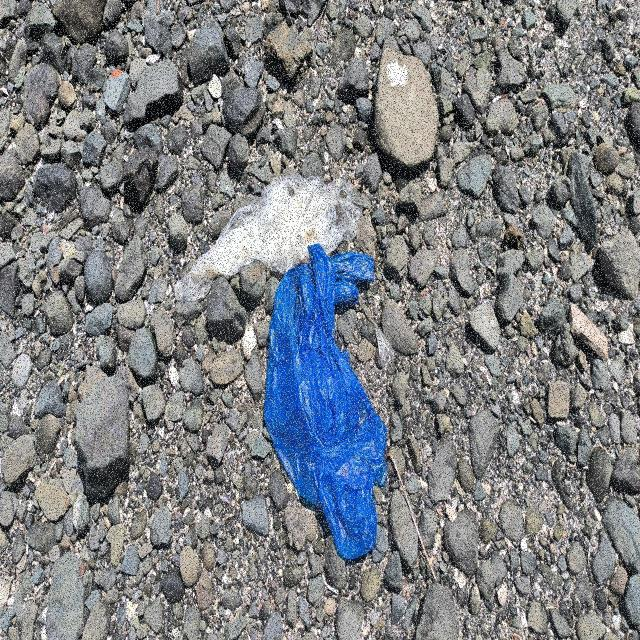plastic_waste: (267, 245, 390, 558)
